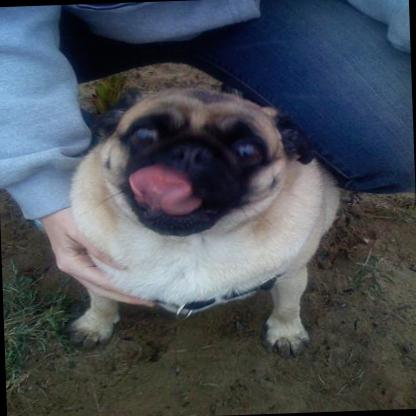pug: (57, 85, 338, 364)
